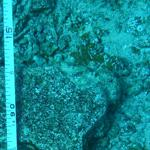dead: (14, 1, 148, 148)
